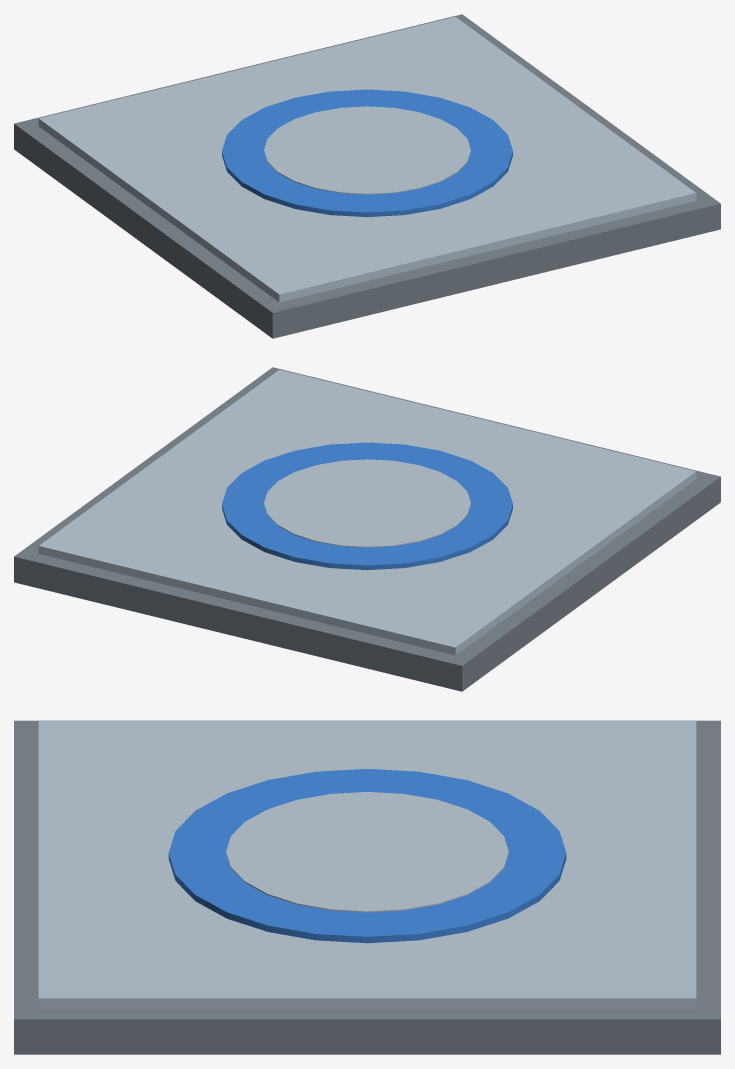
Rendered from k_frost_start.glb.
3 renders of one model, top to bottom at view 1: azimuth 30°, elevation 25°; view 2: azimuth 150°, elevation 25°; view 3: azimuth 270°, elevation 25°, orthographic. The views are drawn at different scales.
Parts seen in each view (by area): view 1: piece; view 2: piece; view 3: piece.
Boxes of the visible parts, <box> form: piece: <box>14,14,720,338</box>; piece: <box>14,367,720,691</box>; piece: <box>14,720,720,1054</box>.
Size of the model in its own units: 1 by 0.0837 by 1.
